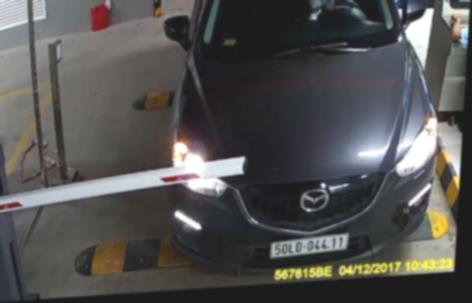License_Plate: (267, 233, 346, 257)
